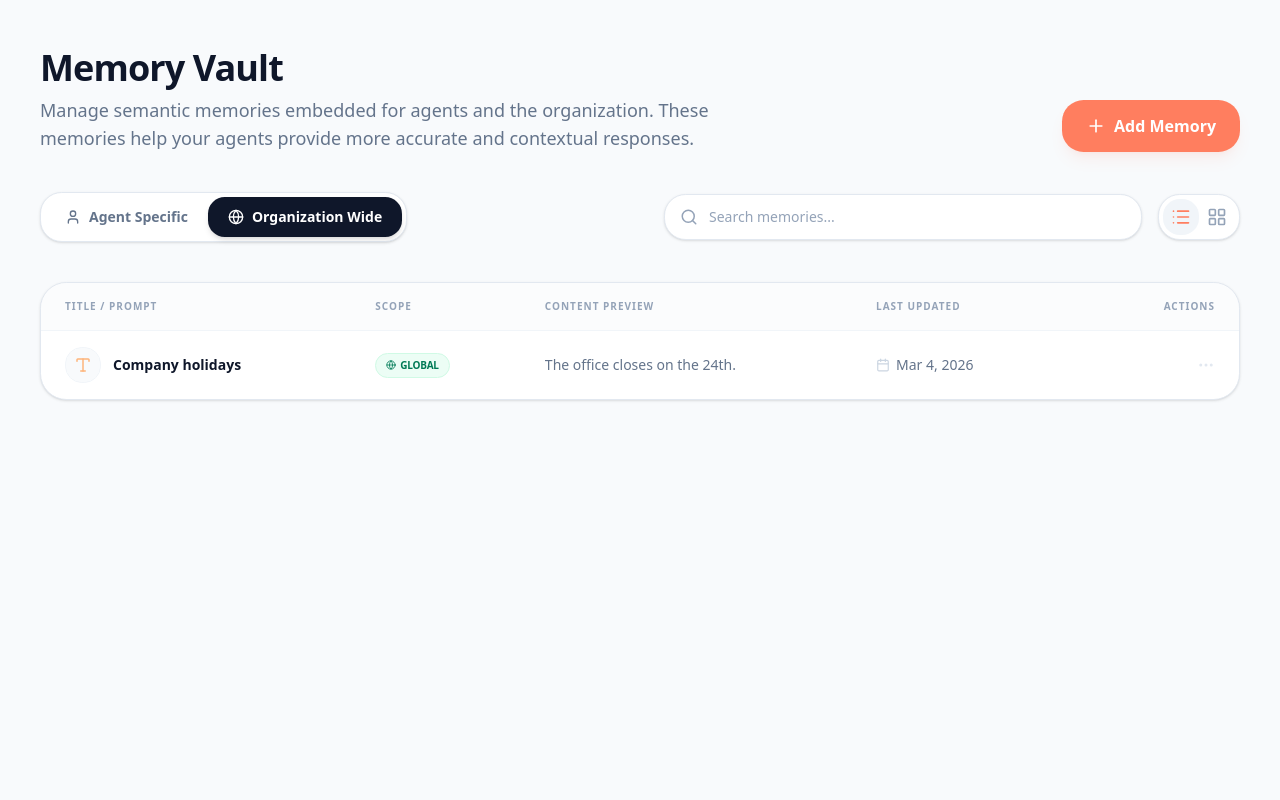
Test: the memory vault page › creating › opens an empty modal
This screenshot has width=1280, height=800.
Expected: the text "Company holidays" is shown, [113,355,241,375]
Click the button "Add Memory".
click(1151, 126)  # box [1062,100,1240,152]
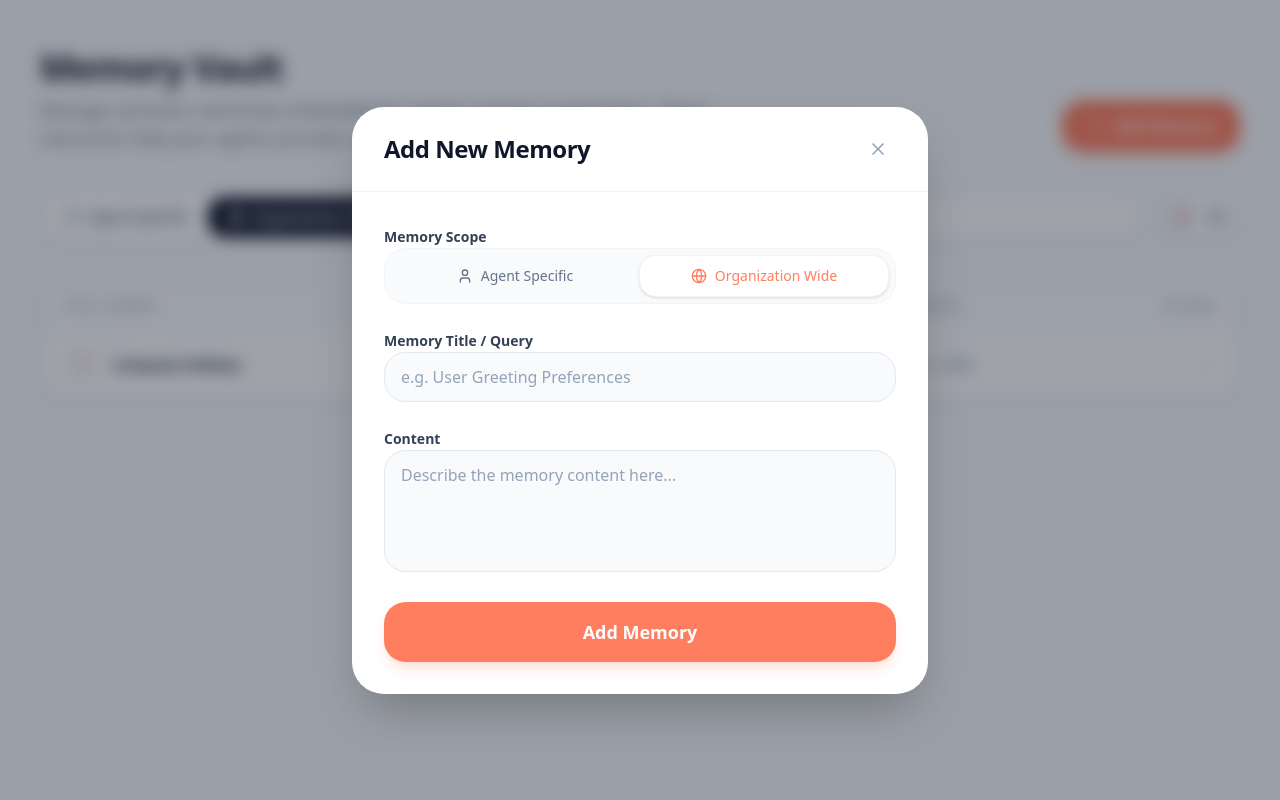
Expected: the heading "Add New Memory" is shown, [384,132,590,164]
